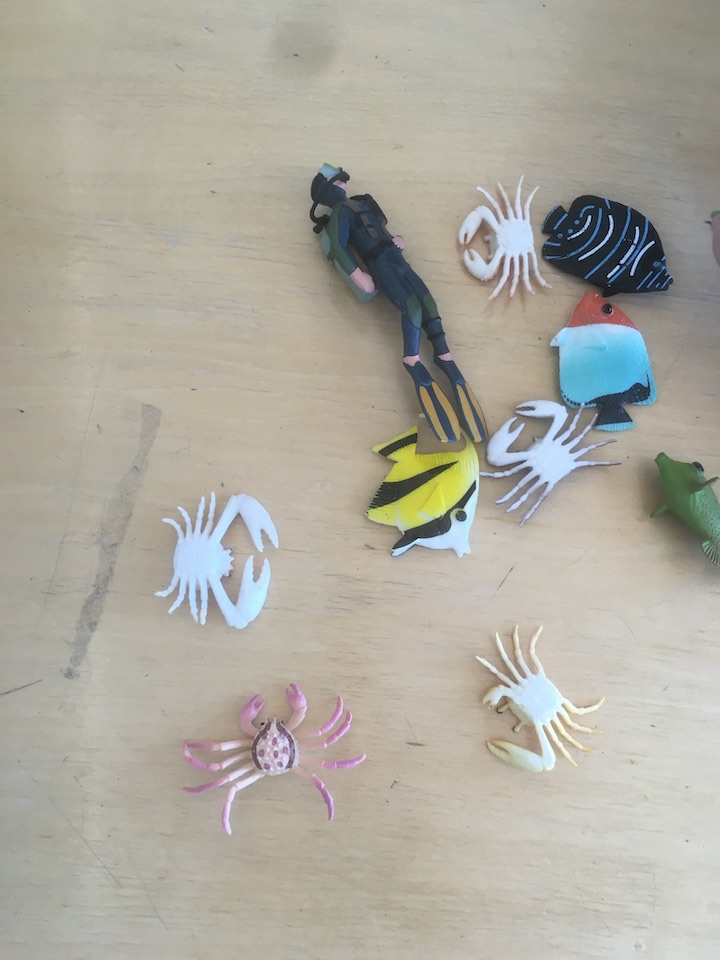crab: (178, 681, 368, 844), (477, 620, 606, 777), (478, 393, 623, 527), (153, 487, 283, 634), (453, 167, 554, 305)
danger: (361, 424, 485, 564)
diver: (308, 159, 497, 450)
fish: (546, 286, 660, 436), (539, 194, 680, 299), (645, 445, 720, 573)
